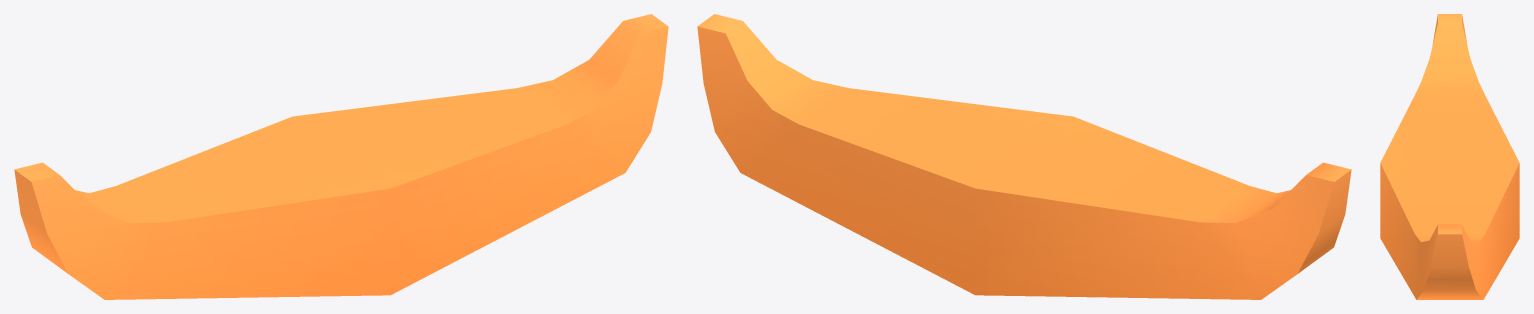
File: bronze_guard_075.glb
3 views of the same model, side by side, from view 1: azimuth 30°, elevation 25°; view 2: azimuth 150°, elevation 25°; view 3: azimuth 270°, elevation 25° (orthographic). The views are drawn at different scales.
Visible parts, largest first — view 1: bronze_guard_075; view 2: bronze_guard_075; view 3: bronze_guard_075.
Boxes of the visible parts, box(x1,y1,x2,y2) form: bronze_guard_075: box(14, 14, 668, 299); bronze_guard_075: box(697, 14, 1351, 299); bronze_guard_075: box(1380, 14, 1519, 299).
Size of the model in its own units: 7.36 by 1.78 by 1.97.
1 material, 1 textured.
